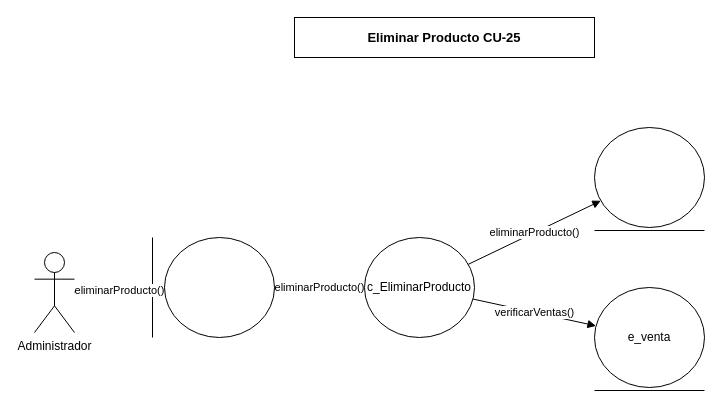
The diagram is 723 pixels wide and 409 high, and some of its shapes have lost their labels. Each missing label, with the centre of its shape:
e_producto: point (649, 177)
i_EliminarProducto: point (219, 287)
